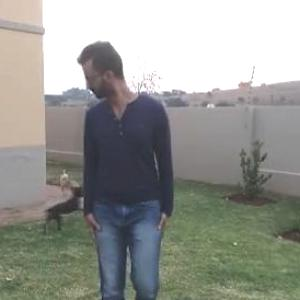follow: (76, 25, 169, 283)
